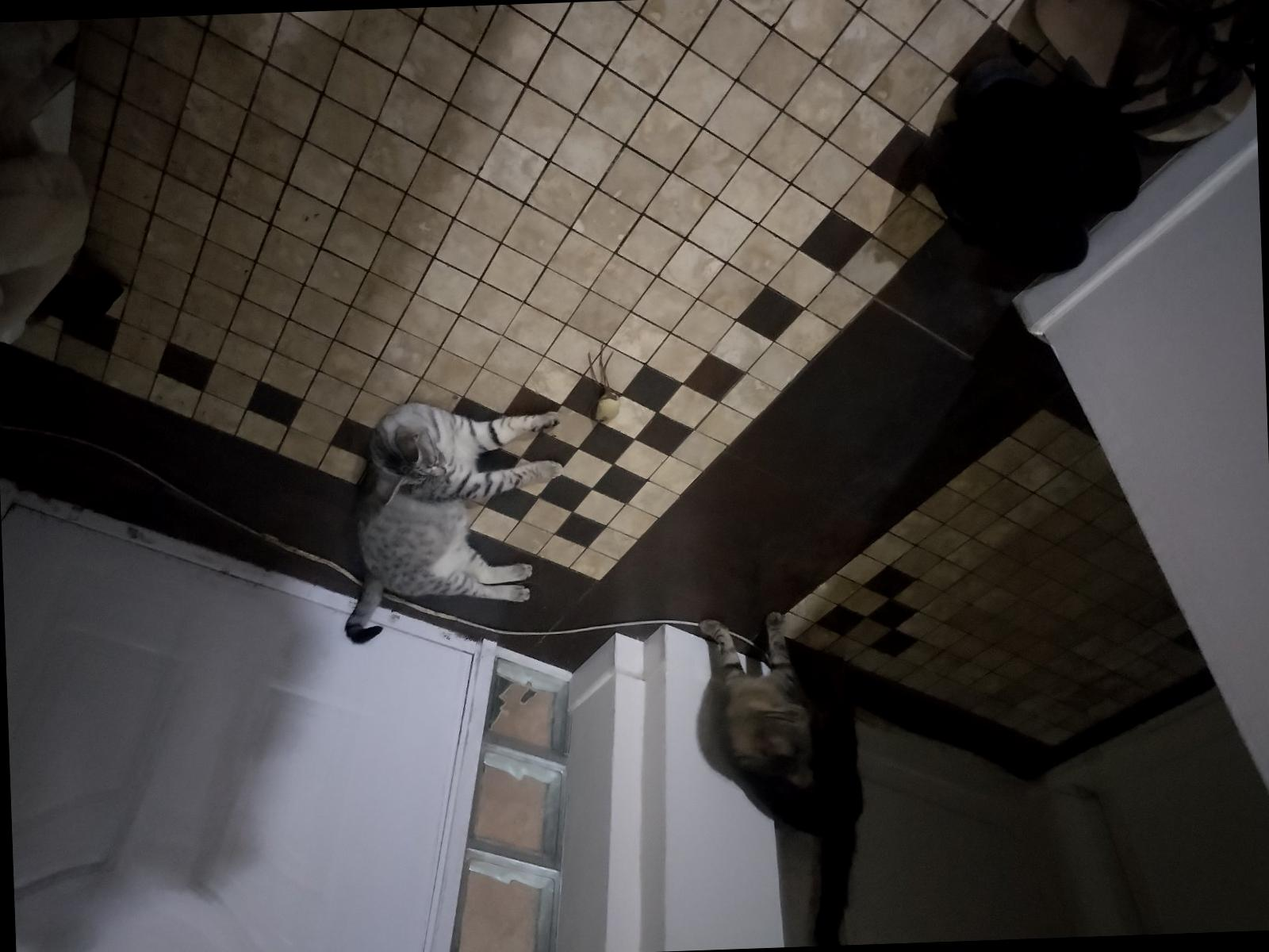macka: (696, 608, 872, 950), (332, 393, 569, 646)
